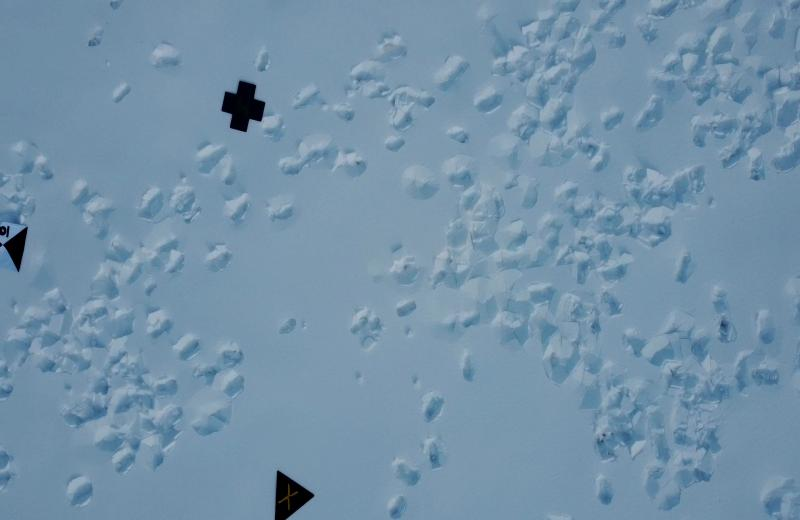Cross: (222, 79, 266, 134)
Triangle: (272, 463, 316, 520)
